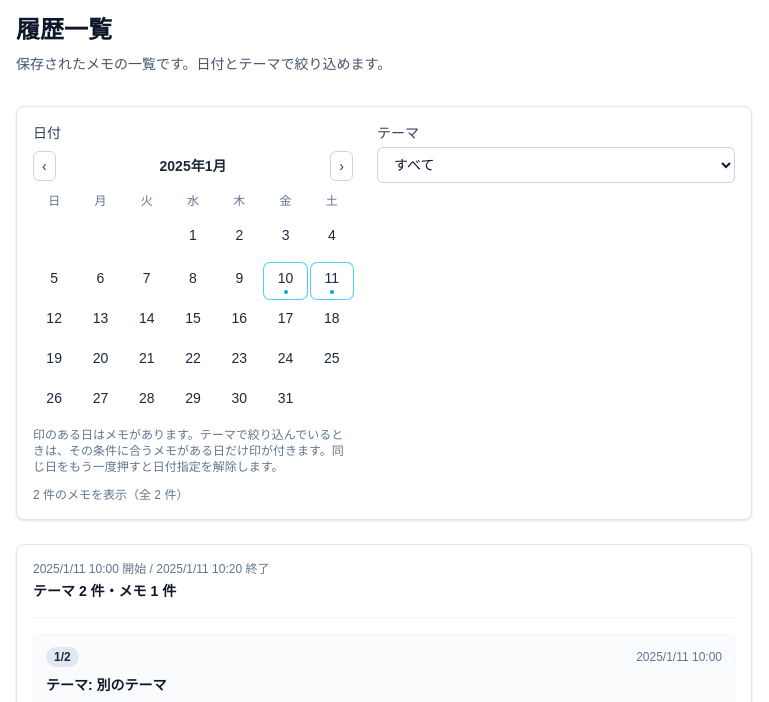
HistoryPage › filters by theme
Expected: the heading "履歴一覧" is shown, [16,16,112,43]
Select "今気になっていることは？" in the dropdown labelled "テーマ" at [556, 165], box [377,147,735,183]
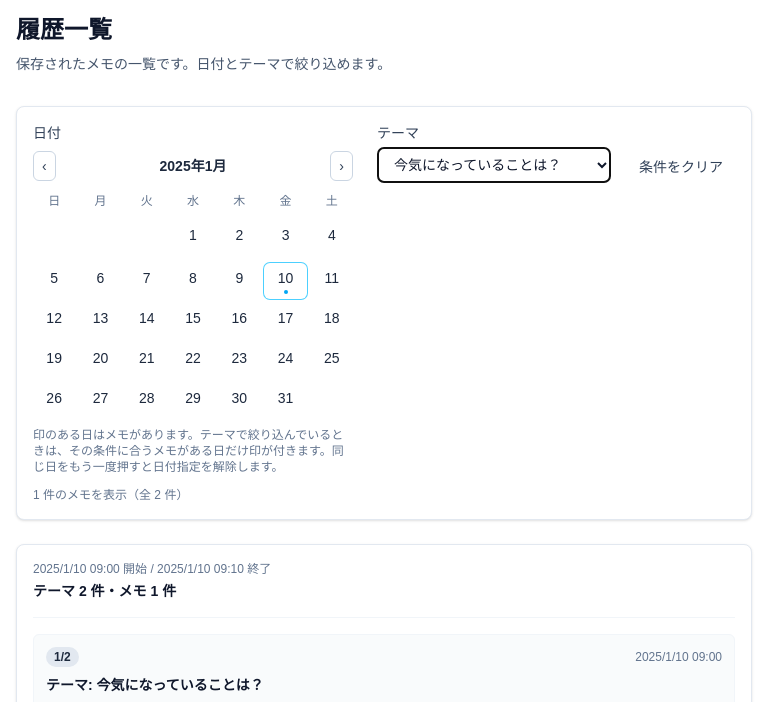
Expected: the text "テーマ: 今気になっていることは？" is shown, [46,677,264,693]
Expected: the text "1 件のメモを表示（全 2 件）" is shown, [33,488,188,502]
Expected: the text "テーマ: 別のテーマ" is gone
